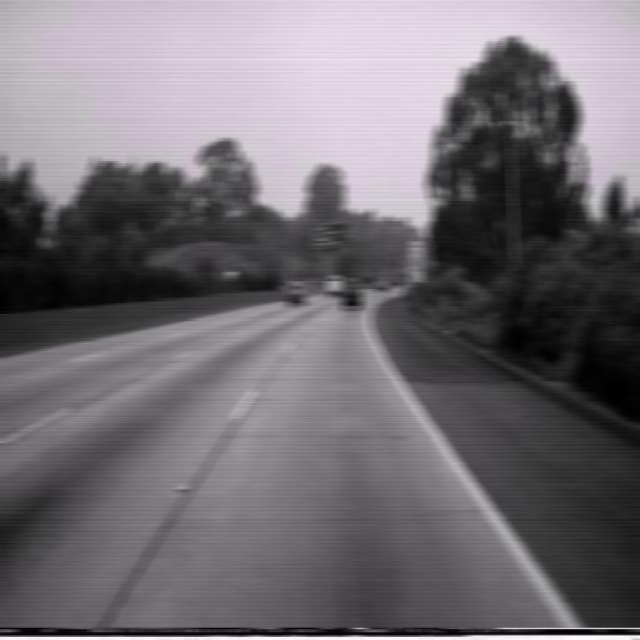speedLimit65: (410, 240, 422, 272)
